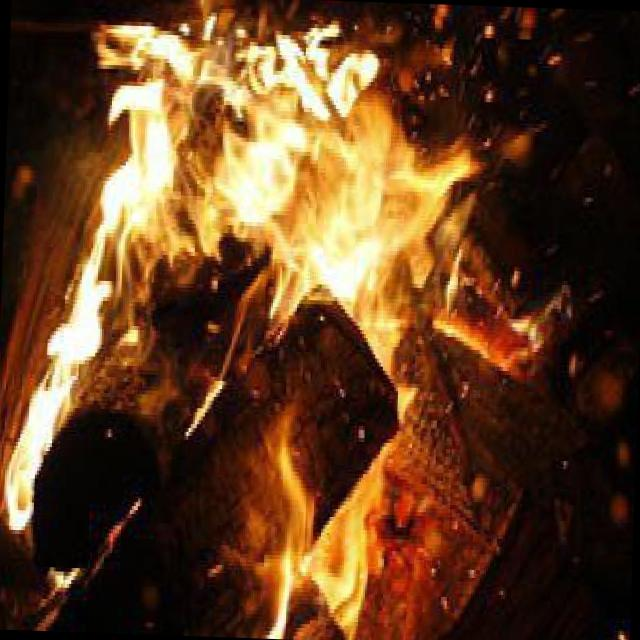Fire: (1, 7, 563, 640)
